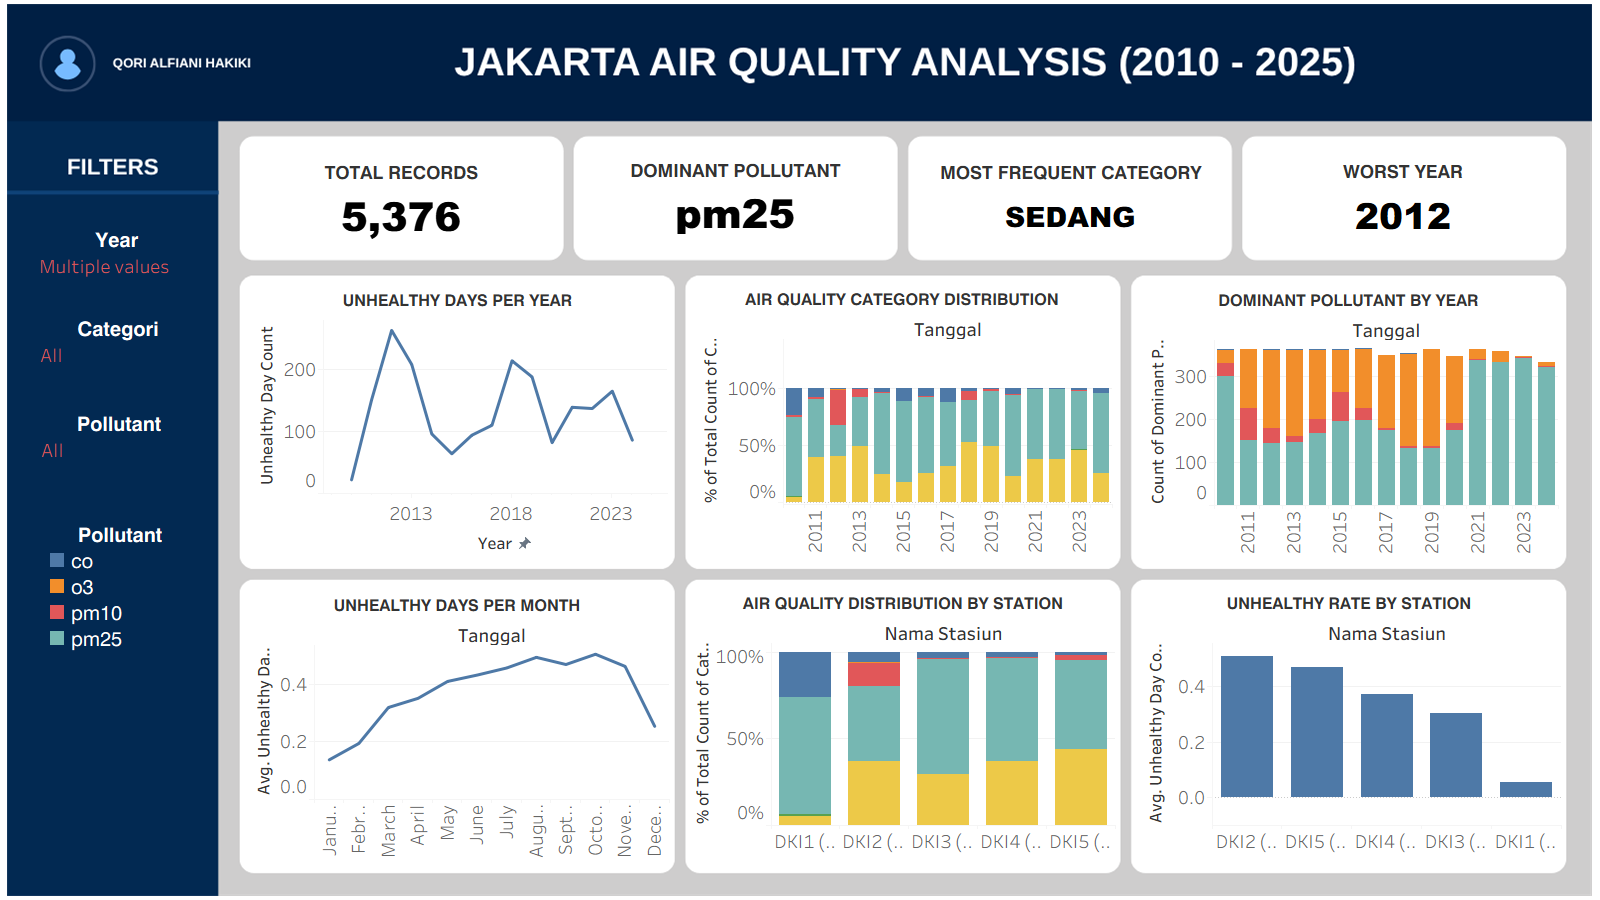

The dashboard page shown, as its layout file describes it:
{"tool":"tableau","page":{"name":"Dashboard 2","canvas":[1600,900],"ordinal":0},"visuals":[{"type":"image","param":"C:/Users/LENOVO/Downloads/JAKARTA AIR QUALITY ANALYSIS (3).png","box":[0,0,1600,900]},{"type":"worksheet","title":"Dominant Pollutant","mark":"Automatic","box":[575,152,321,82]},{"type":"worksheet","title":"Worst Year","mark":"Text","box":[1244,153,318,85]},{"type":"worksheet","title":"Total Records","mark":"Automatic","box":[242,154,319,85]},{"type":"worksheet","title":"Most Frequent Category","mark":"Automatic","box":[913,154,316,86]},{"type":"filter","title":"Unhealthy Days per Year","param":"[federated.18i46f21uim24p1882mvj0r4m79l].[yr:tanggal:ok]","box":[37,225,160,64]},{"type":"worksheet","title":"Air Quality Category Distribution","mark":"Bar","cols":["tanggal"],"box":[692,282,420,282]},{"type":"worksheet","title":"Unhealthy Days per Year","mark":"Automatic","rows":["Calculation_1978637864996865"],"cols":["tanggal"],"box":[248,283,419,278]},{"type":"worksheet","title":"Dominant Pollutant by Year","mark":"Bar","rows":["Calculation_1978637848535040"],"cols":["tanggal"],"box":[1139,283,419,282]},{"type":"filter","title":"Unhealthy Days per Year","param":"[federated.18i46f21uim24p1882mvj0r4m79l].[none:categori:nk]","box":[38,314,160,64]},{"type":"filter","title":"Unhealthy Days per Year","param":"[federated.18i46f21uim24p1882mvj0r4m79l].[none:Calculation_1978637848535040:nk]","box":[39,409,160,62]},{"type":"legend","title":"Dominant Pollutant by Year","param":"[federated.18i46f21uim24p1882mvj0r4m79l].[none:Calculation_1978637848535040:nk]","box":[44,519,150,141]},{"type":"worksheet","title":"Air Quality Distribution by Station","mark":"Automatic","cols":["nama_stasiun"],"box":[691,586,424,279]},{"type":"worksheet","title":"Unhealthy Rate by Station","mark":"Automatic","rows":["Calculation_1978637864996865"],"cols":["nama_stasiun"],"box":[1137,586,424,279]},{"type":"worksheet","title":"Unhealthy Days per Month","mark":"Line","rows":["Calculation_1978637864996865"],"cols":["tanggal"],"box":[245,588,424,271]}]}

Visuals, with their boxes in screenshot pixels (x1, y1, x2, y2), scaled from the page's 1600x900 canvas onto the 1600x900 screenshot:
image: 0/0/1599/899
"Dominant Pollutant" worksheet: 575/152/896/234
"Worst Year" worksheet (Text marks): 1244/153/1562/238
"Total Records" worksheet: 242/154/561/239
"Most Frequent Category" worksheet: 913/154/1229/240
"Unhealthy Days per Year" filter: 37/225/197/289
"Air Quality Category Distribution" worksheet (Bar marks): 692/282/1112/564
"Unhealthy Days per Year" worksheet: 248/283/667/561
"Dominant Pollutant by Year" worksheet (Bar marks): 1139/283/1558/565
"Unhealthy Days per Year" filter: 38/314/198/378
"Unhealthy Days per Year" filter: 39/409/199/471
"Dominant Pollutant by Year" legend: 44/519/194/660
"Air Quality Distribution by Station" worksheet: 691/586/1115/865
"Unhealthy Rate by Station" worksheet: 1137/586/1561/865
"Unhealthy Days per Month" worksheet (Line marks): 245/588/669/859
